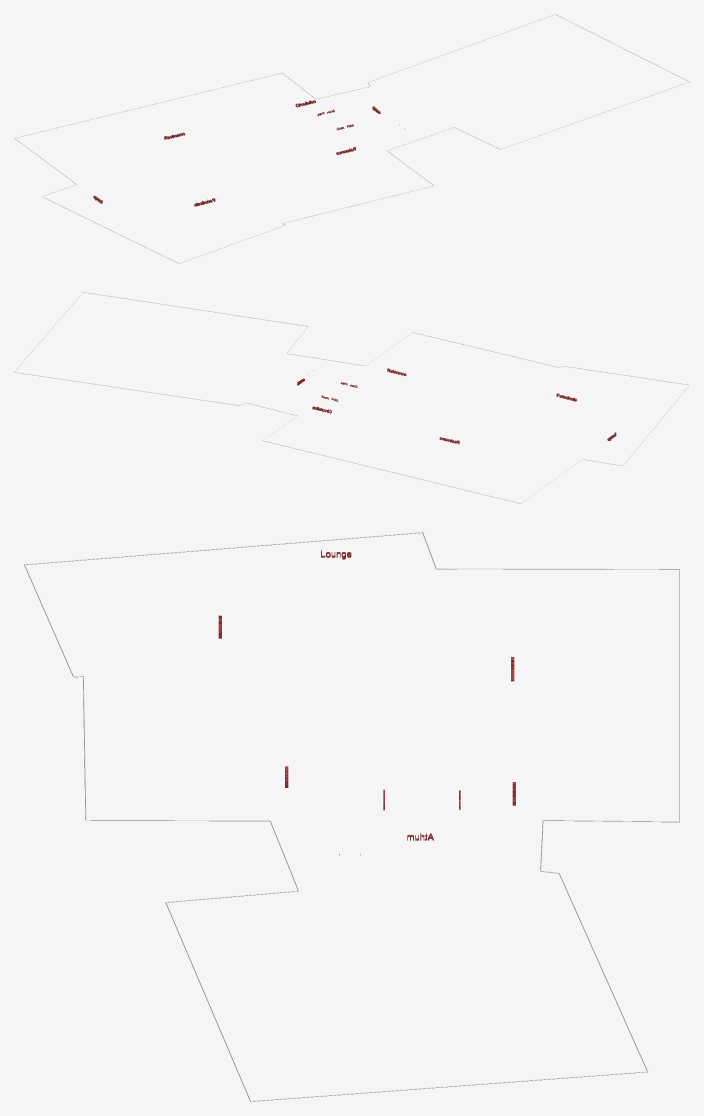
The model's file is MillerCenterAR.FBX.
3 views of the same model, one above another, from view 1: azimuth 30°, elevation 25°; view 2: azimuth 150°, elevation 25°; view 3: azimuth 270°, elevation 25° (orthographic). The views are drawn at different scales.
Parts seen in each view (by area): view 1: Ext_Ftprint; view 2: Ext_Ftprint; view 3: Ext_Ftprint.
Boxes of the visible parts, x1,y1,x2,y2 form: Ext_Ftprint: [14, 14, 689, 263]; Ext_Ftprint: [14, 292, 689, 503]; Ext_Ftprint: [24, 532, 679, 1101].
Bounding box in the file's own units: 5425 × 62.9 × 2643.
